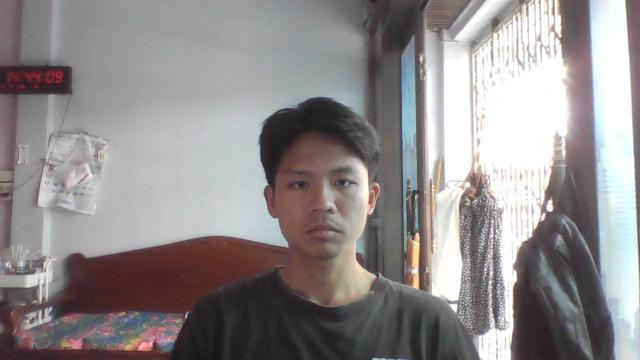fokus: (262, 140, 384, 259)
